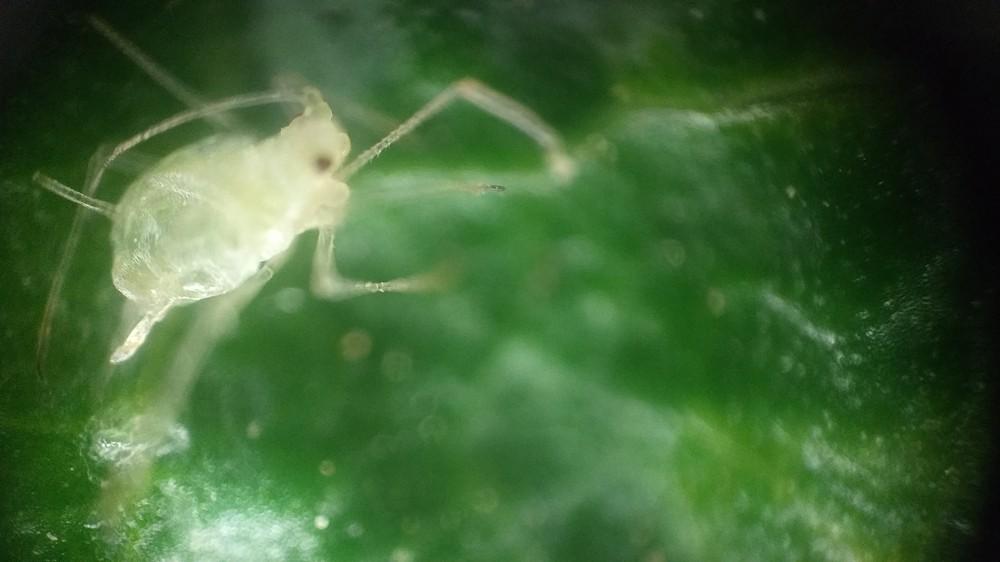Pulgon: (27, 15, 579, 403)
